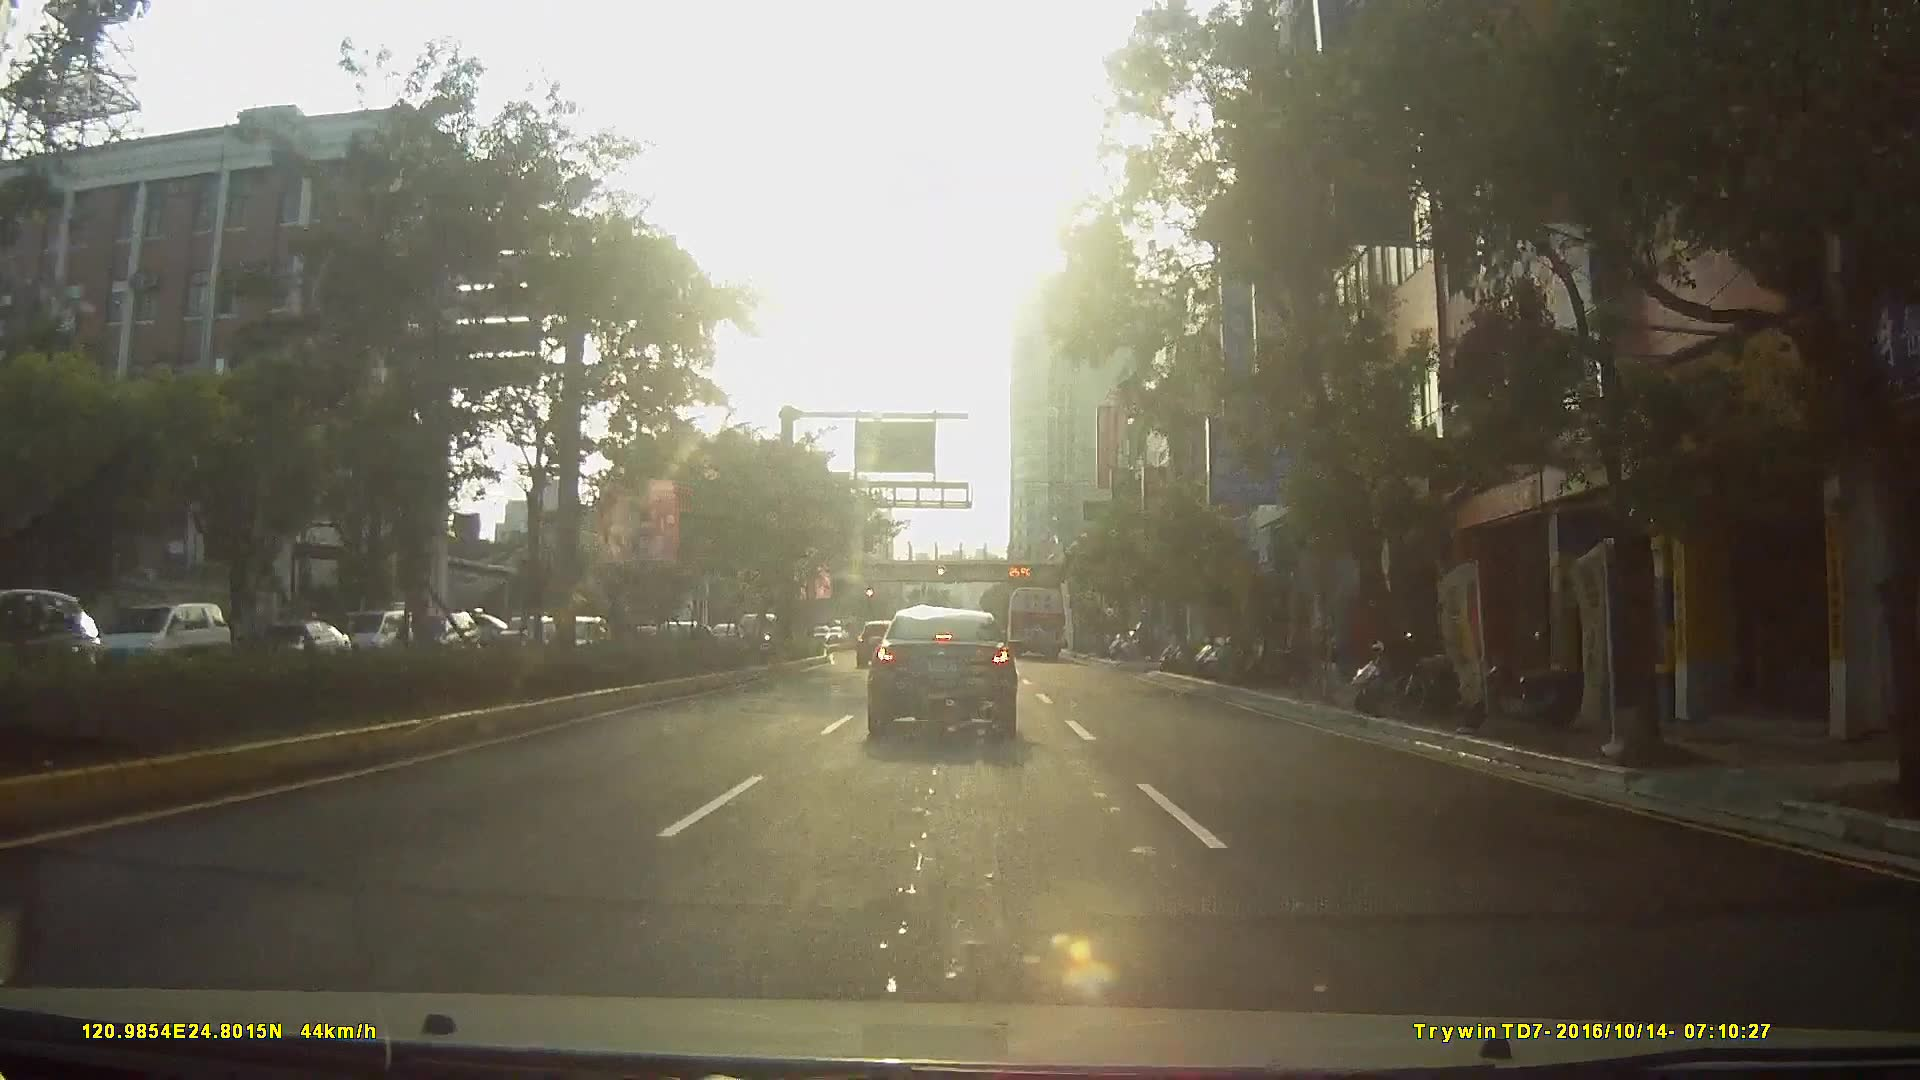vehicle: (862, 604, 1015, 737), (1, 588, 123, 715), (83, 599, 223, 675), (218, 618, 359, 676), (1004, 582, 1065, 655), (340, 608, 421, 659), (404, 609, 475, 661), (493, 611, 555, 650), (855, 621, 898, 670)
